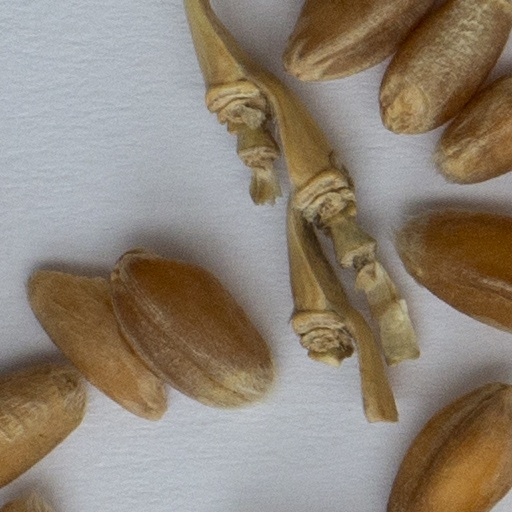Peel-poly: (185, 0, 413, 418)
